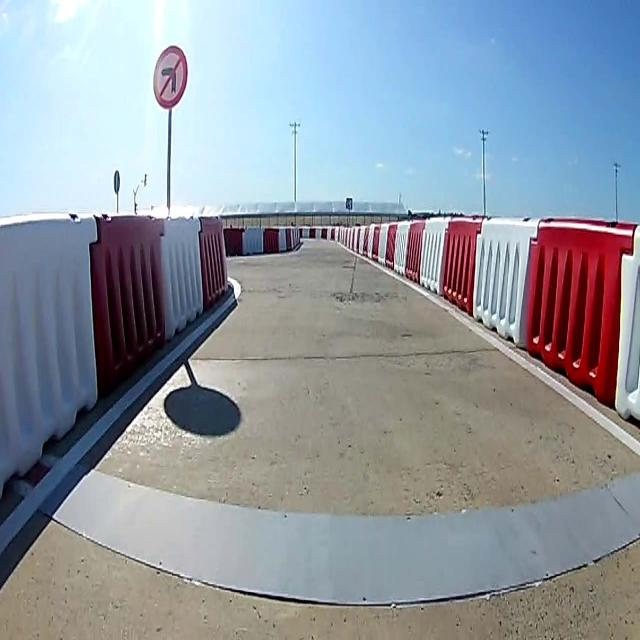soladonulmez: (154, 45, 188, 104)
